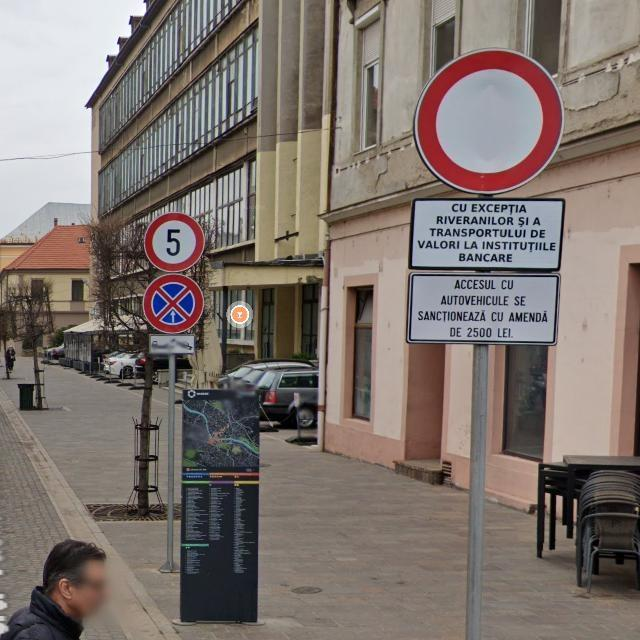forb_waiting: (143, 274, 205, 334)
